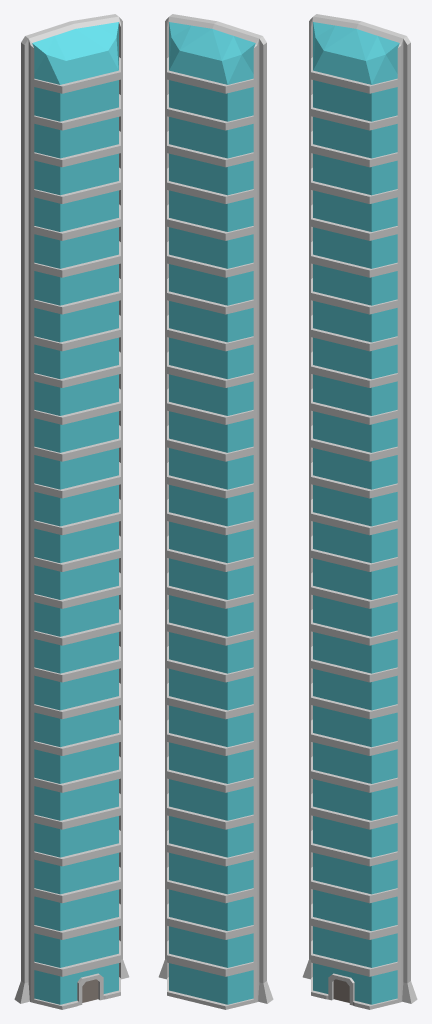
The model's file is city_skyscraper_2.fbx.
The picture shows the model from 3 angles, left to right: view 1: azimuth 30°, elevation 25°; view 2: azimuth 150°, elevation 25°; view 3: azimuth 330°, elevation 25°; orthographic projection.
Visible parts, largest first — view 1: city_skyscraper_2_mesh; view 2: city_skyscraper_2_mesh; view 3: city_skyscraper_2_mesh.
Part boxes in pixels (x1,y1,x2,y2): city_skyscraper_2_mesh: (14, 14, 129, 1009); city_skyscraper_2_mesh: (158, 14, 273, 1009); city_skyscraper_2_mesh: (302, 14, 417, 1009).
Bounding box in the file's own units: 3100 × 1936 × 26250.
